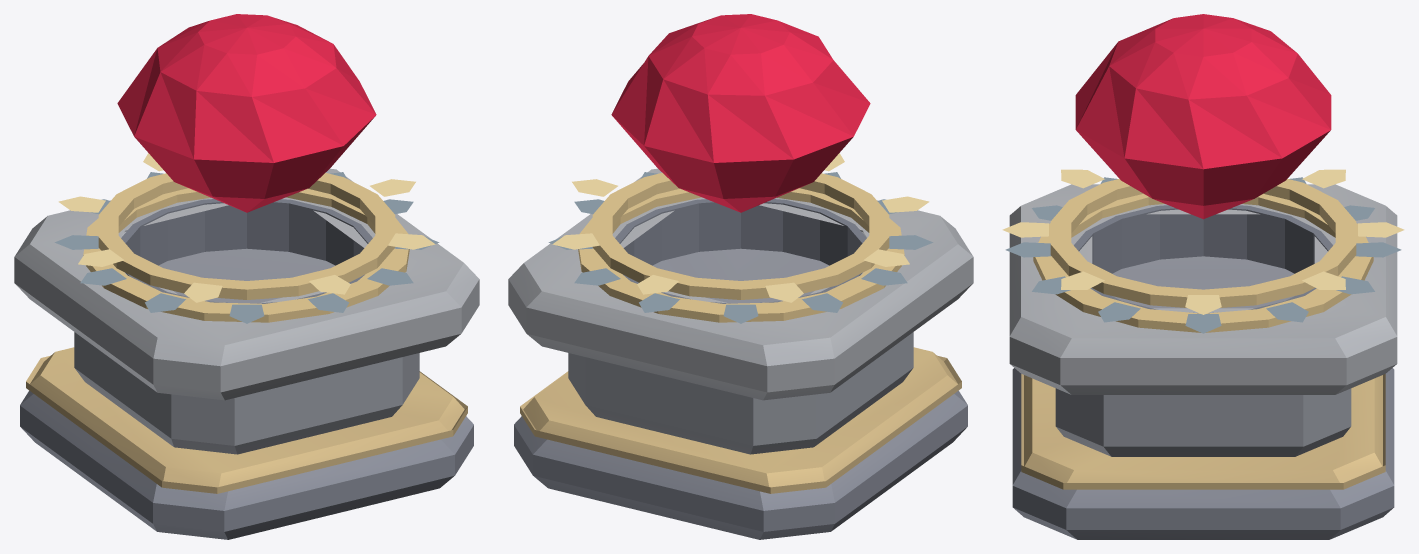
File: ruby_pedestal_sealing.glb
3 renders of one model, left to right at view 1: azimuth 30°, elevation 25°; view 2: azimuth 150°, elevation 25°; view 3: azimuth 270°, elevation 25°, orthographic. The views are drawn at different scales.
Visible parts, largest first — view 1: Stone_Upper_Crown, RubyCrystal, Stone_Shaft, Stone_Base, Gold_Base_Trim, Socket_Inner_Wall, Socket_Bronze_Lip, Gold_Accent_Ring, Rune_Glyphs, Socket_Latch_Stops; view 2: Stone_Upper_Crown, RubyCrystal, Stone_Shaft, Stone_Base, Gold_Base_Trim, Socket_Inner_Wall, Socket_Bronze_Lip, Gold_Accent_Ring, Rune_Glyphs, Socket_Latch_Stops; view 3: RubyCrystal, Stone_Upper_Crown, Stone_Shaft, Stone_Base, Gold_Base_Trim, Socket_Inner_Wall, Socket_Bronze_Lip, Gold_Accent_Ring, Rune_Glyphs, Socket_Latch_Stops.
Part boxes in pixels (bbox=[...]): Stone_Upper_Crown: bbox=[14, 168, 479, 400]; RubyCrystal: bbox=[117, 14, 376, 212]; Stone_Shaft: bbox=[74, 248, 419, 454]; Stone_Base: bbox=[20, 390, 473, 539]; Gold_Base_Trim: bbox=[26, 347, 467, 493]; Socket_Inner_Wall: bbox=[121, 199, 372, 303]; Socket_Bronze_Lip: bbox=[98, 173, 395, 299]; Gold_Accent_Ring: bbox=[83, 188, 409, 322]; Rune_Glyphs: bbox=[54, 172, 439, 323]; Socket_Latch_Stops: bbox=[58, 153, 435, 302]; Stone_Upper_Crown: bbox=[508, 168, 973, 400]; RubyCrystal: bbox=[611, 14, 870, 212]; Stone_Shaft: bbox=[568, 248, 913, 454]; Stone_Base: bbox=[514, 390, 967, 539]; Gold_Base_Trim: bbox=[520, 347, 961, 493]; Socket_Inner_Wall: bbox=[615, 199, 866, 303]; Socket_Bronze_Lip: bbox=[592, 173, 889, 299]; Gold_Accent_Ring: bbox=[578, 188, 904, 322]; Rune_Glyphs: bbox=[548, 172, 933, 323]; Socket_Latch_Stops: bbox=[552, 153, 929, 302]; RubyCrystal: bbox=[1075, 14, 1331, 219]; Stone_Upper_Crown: bbox=[1009, 184, 1397, 394]; Stone_Shaft: bbox=[1055, 256, 1351, 456]; Stone_Base: bbox=[1012, 368, 1394, 539]; Gold_Base_Trim: bbox=[1021, 374, 1385, 489]; Socket_Inner_Wall: bbox=[1074, 205, 1332, 313]; Socket_Bronze_Lip: bbox=[1050, 179, 1356, 307]; Gold_Accent_Ring: bbox=[1033, 193, 1373, 332]; Rune_Glyphs: bbox=[1005, 177, 1401, 333]; Socket_Latch_Stops: bbox=[1002, 169, 1404, 314].
Bounding box in the file's own units: 1.35 × 1.61 × 1.35.
